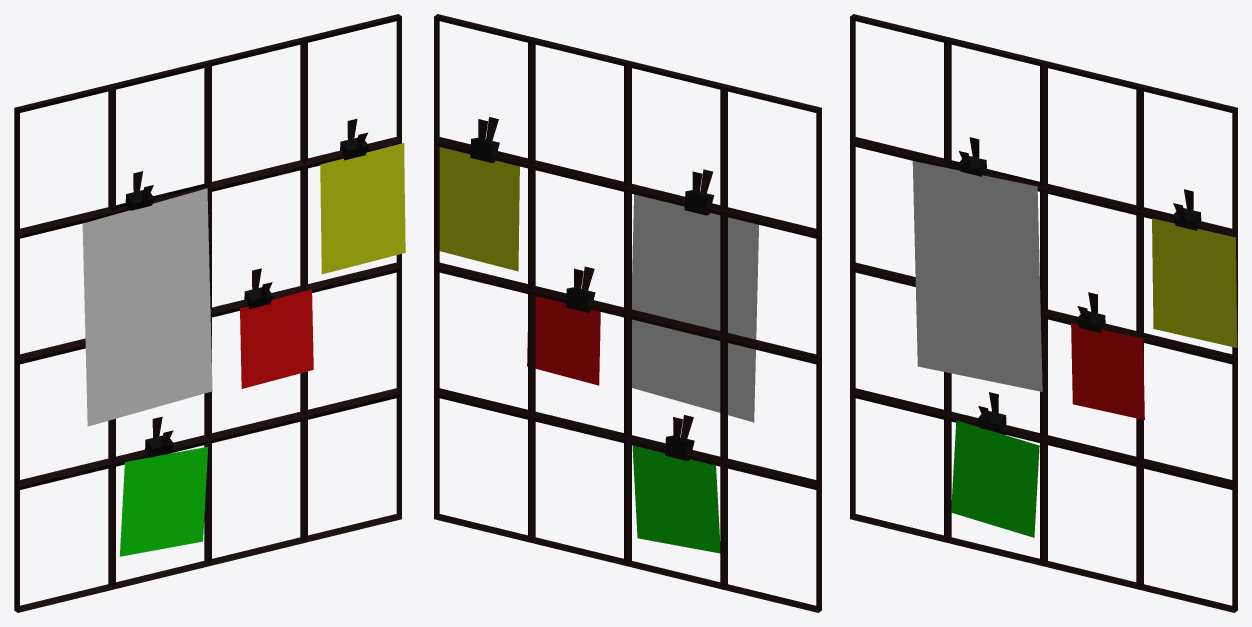
The model's file is board-wire-papers.obj.
3 renders of one model, left to right at view 1: azimuth 30°, elevation 25°; view 2: azimuth 150°, elevation 25°; view 3: azimuth 330°, elevation 25°, orthographic.
Visible parts, largest first — view 1: board-wire-papers; view 2: board-wire-papers; view 3: board-wire-papers.
Part boxes in pixels (<box>): board-wire-papers: <box>14,14,405,612</box>; board-wire-papers: <box>434,14,821,612</box>; board-wire-papers: <box>850,14,1237,612</box>.
Bounding box in the file's own units: 0.6051 × 0.75 × 0.0352.
